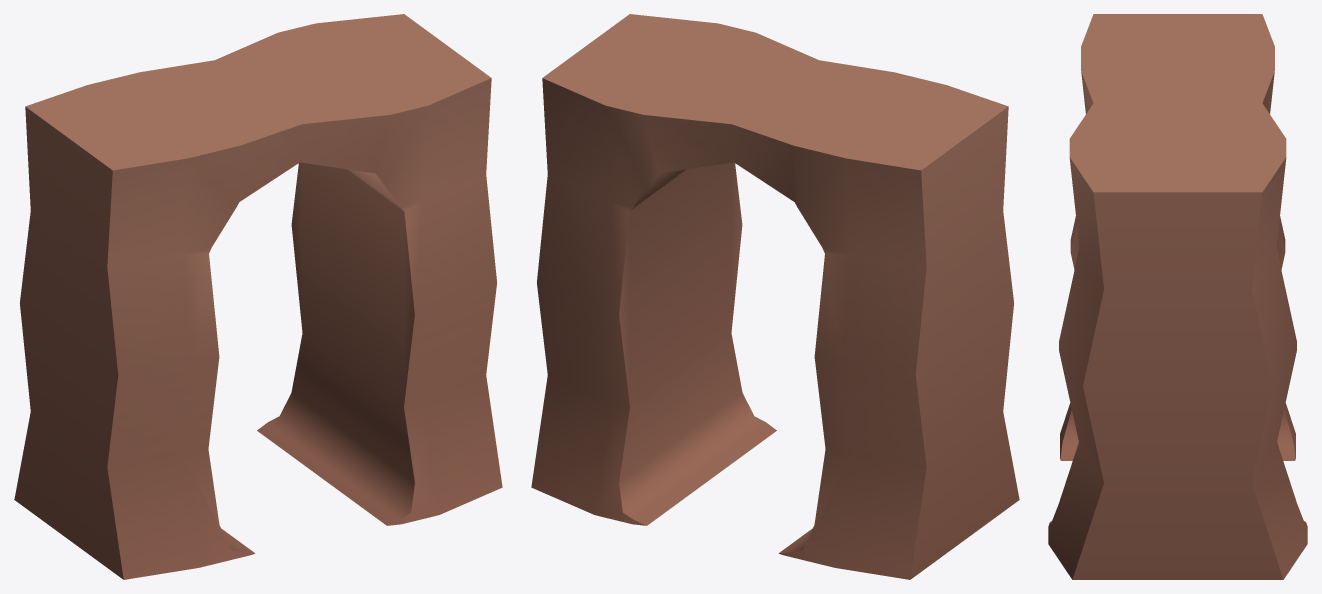
The model's file is w-grottport-cc0.glb.
3 views of the same model, side by side, from view 1: azimuth 30°, elevation 25°; view 2: azimuth 150°, elevation 25°; view 3: azimuth 270°, elevation 25° (orthographic). The views are drawn at different scales.
Visible parts, largest first — view 1: gate-rock; view 2: gate-rock; view 3: gate-rock.
Part boxes in pixels (<box>): gate-rock: <box>14,14,502,579</box>; gate-rock: <box>531,14,1019,579</box>; gate-rock: <box>1048,14,1307,579</box>.
Bounding box in the file's own units: 4 × 4.05 × 2.45.
Materials: 1 (1 with a texture image).
